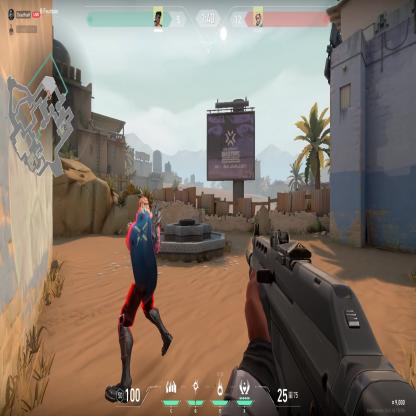enemy: (110, 192, 176, 364)
